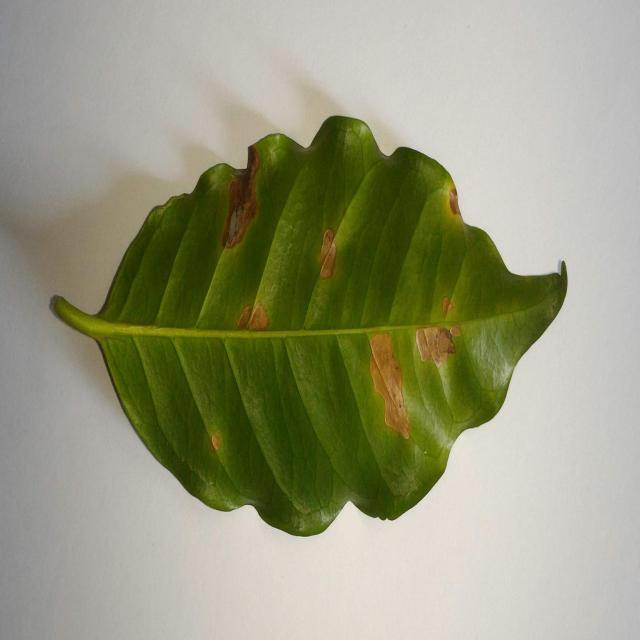Plaga-Minador: (48, 116, 568, 540)
